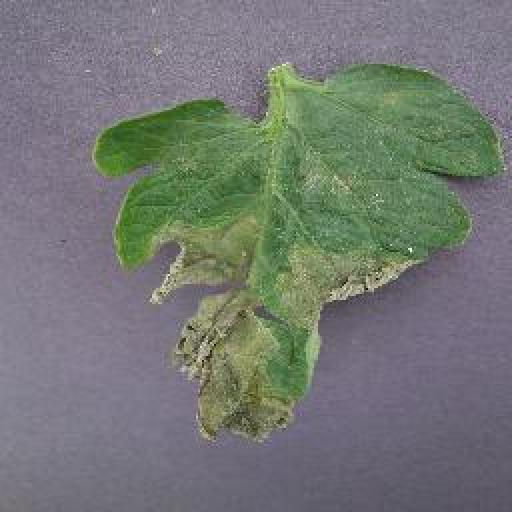disease_tomato: (92, 61, 508, 451)
